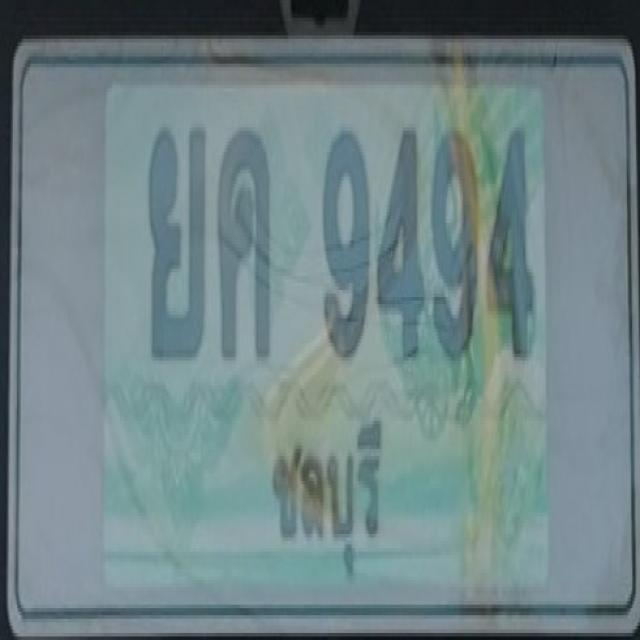license_plate: (10, 36, 640, 640)
